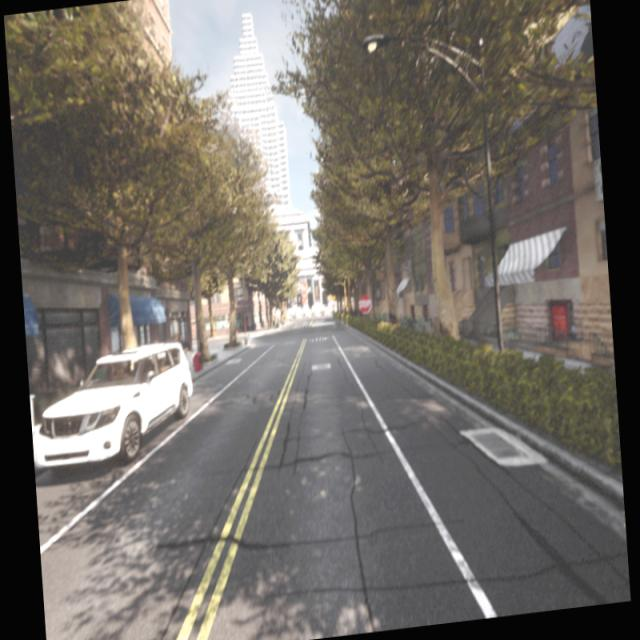stop sign: (356, 290, 373, 316)
